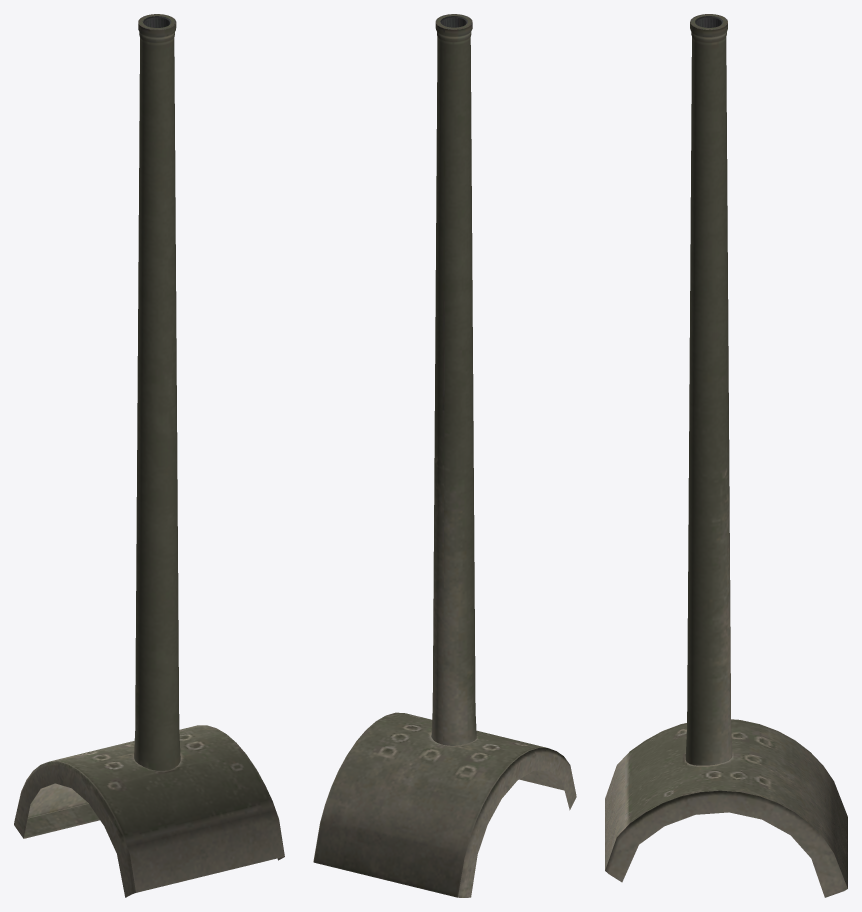
Rendered from Gun_03.glb.
3 renders of one model, left to right at view 1: azimuth 30°, elevation 25°; view 2: azimuth 150°, elevation 25°; view 3: azimuth 270°, elevation 25°, orthographic. The views are drawn at different scales.
Visible parts, largest first — view 1: set_0_group_0; view 2: set_0_group_0; view 3: set_0_group_0.
Boxes of the visible parts, x1,y1,x2,y2 form: set_0_group_0: [14, 14, 284, 897]; set_0_group_0: [313, 14, 576, 897]; set_0_group_0: [605, 14, 847, 897].
Bounding box in the file's own units: 0.7225 × 3.8 × 0.9981.
1 material, 1 textured.
